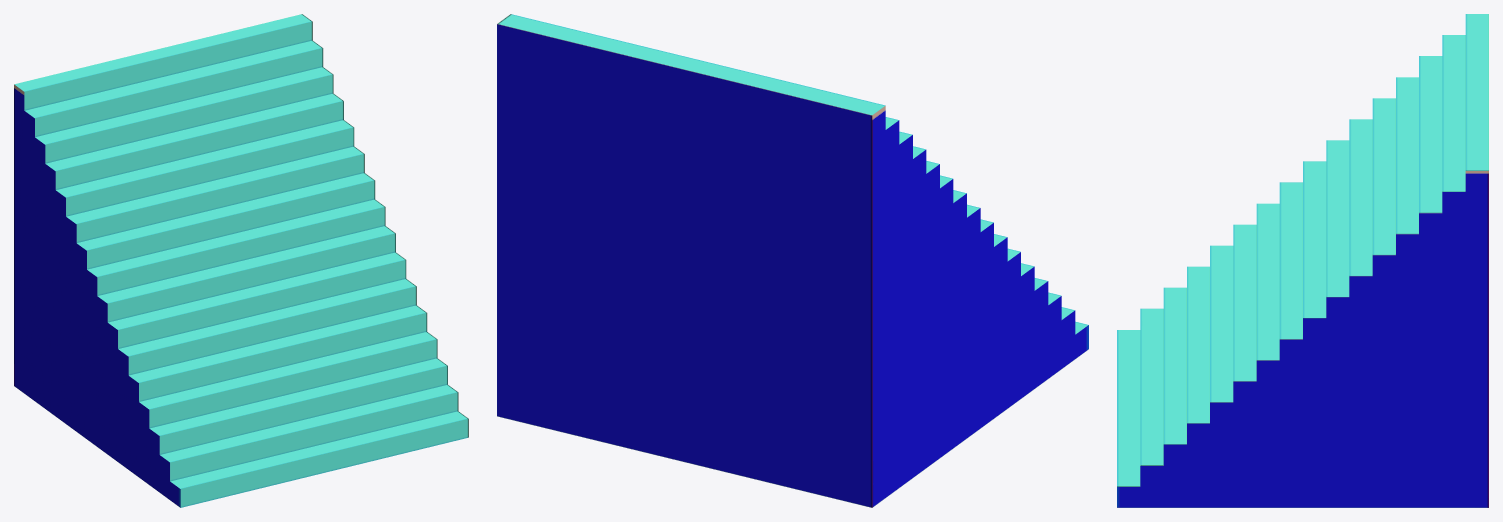
Rendered from MK_Stairs_Trim_A_Wall_E.fbx.
3 renders of one model, left to right at view 1: azimuth 30°, elevation 25°; view 2: azimuth 150°, elevation 25°; view 3: azimuth 270°, elevation 25°, orthographic. The views are drawn at different scales.
Parts seen in each view (by area): view 1: Stairs_Trim_A_Wall_E; view 2: Stairs_Trim_A_Wall_E; view 3: Stairs_Trim_A_Wall_E.
Part boxes in pixels (bbox=[...]): Stairs_Trim_A_Wall_E: bbox=[14, 14, 468, 507]; Stairs_Trim_A_Wall_E: bbox=[497, 14, 1088, 507]; Stairs_Trim_A_Wall_E: bbox=[1117, 14, 1488, 507].
Bounding box in the file's own units: 180 × 180 × 180.
Materials: 1 (1 with a texture image).
